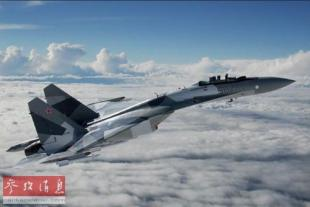airplane: (8, 65, 296, 164)
